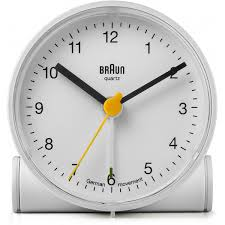alarm_clock: (7, 0, 213, 209), (7, 5, 213, 209)
